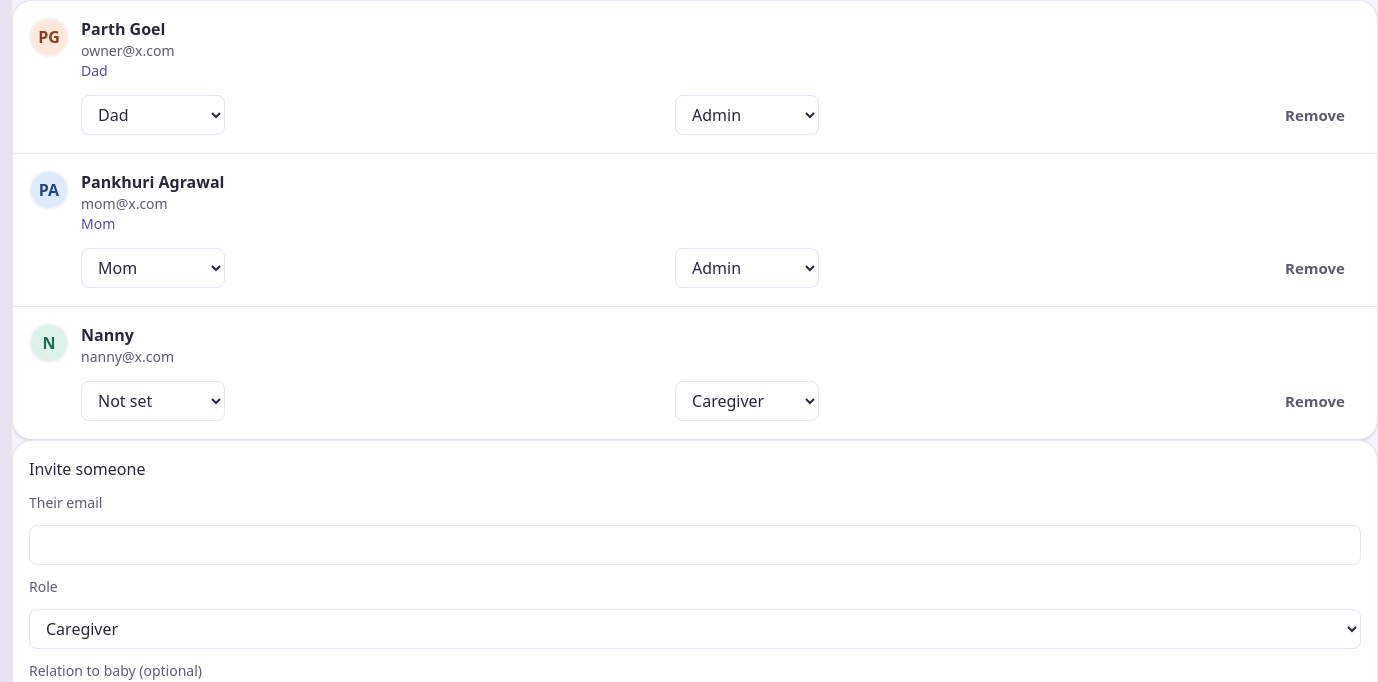
Scenario: a refused relation change explains itself
Select "Mom" in the dropdown named "Relation for nanny@x.com". click: point(153, 401)
box: left=81, top=381, right=225, bottom=421
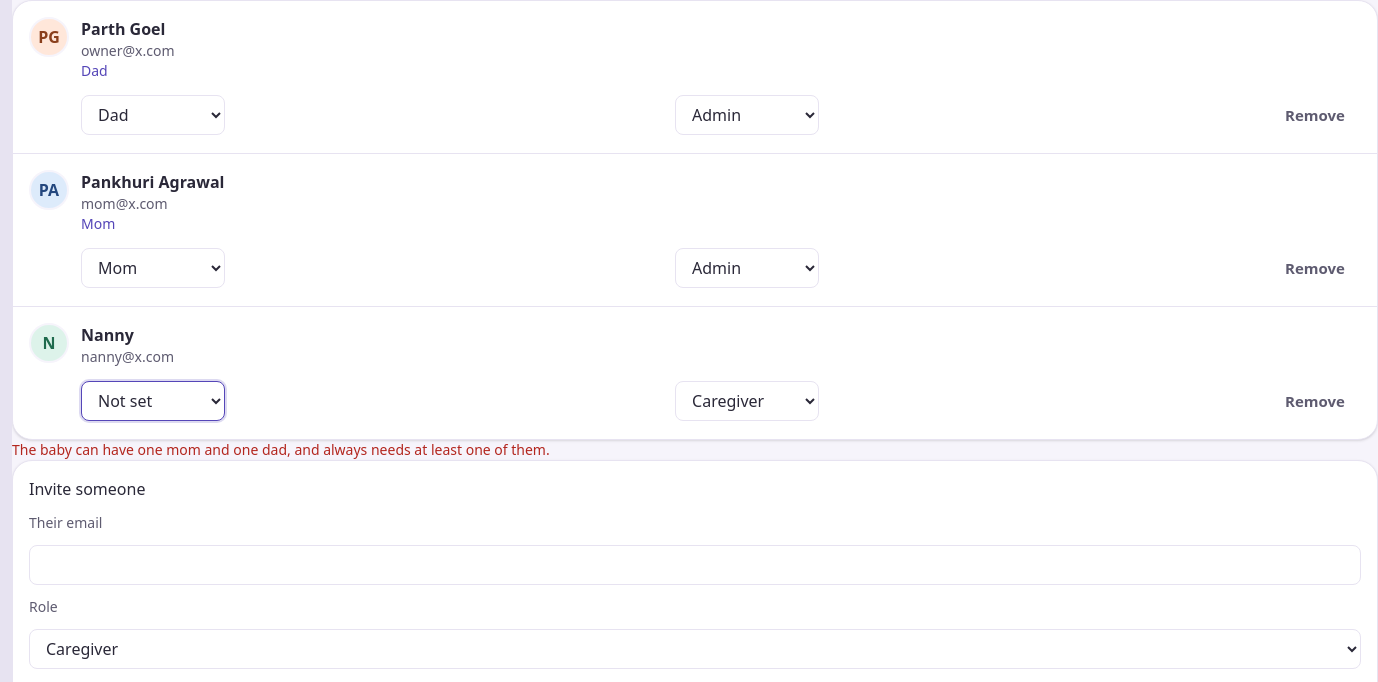
Expected: the text "The baby can have one mom and one dad, and always needs at least one of them." is shown, left=12, top=440, right=550, bottom=459
